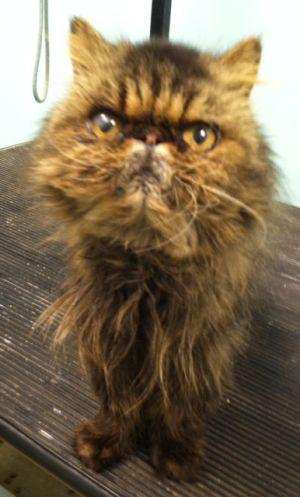persian: (36, 14, 277, 252)
